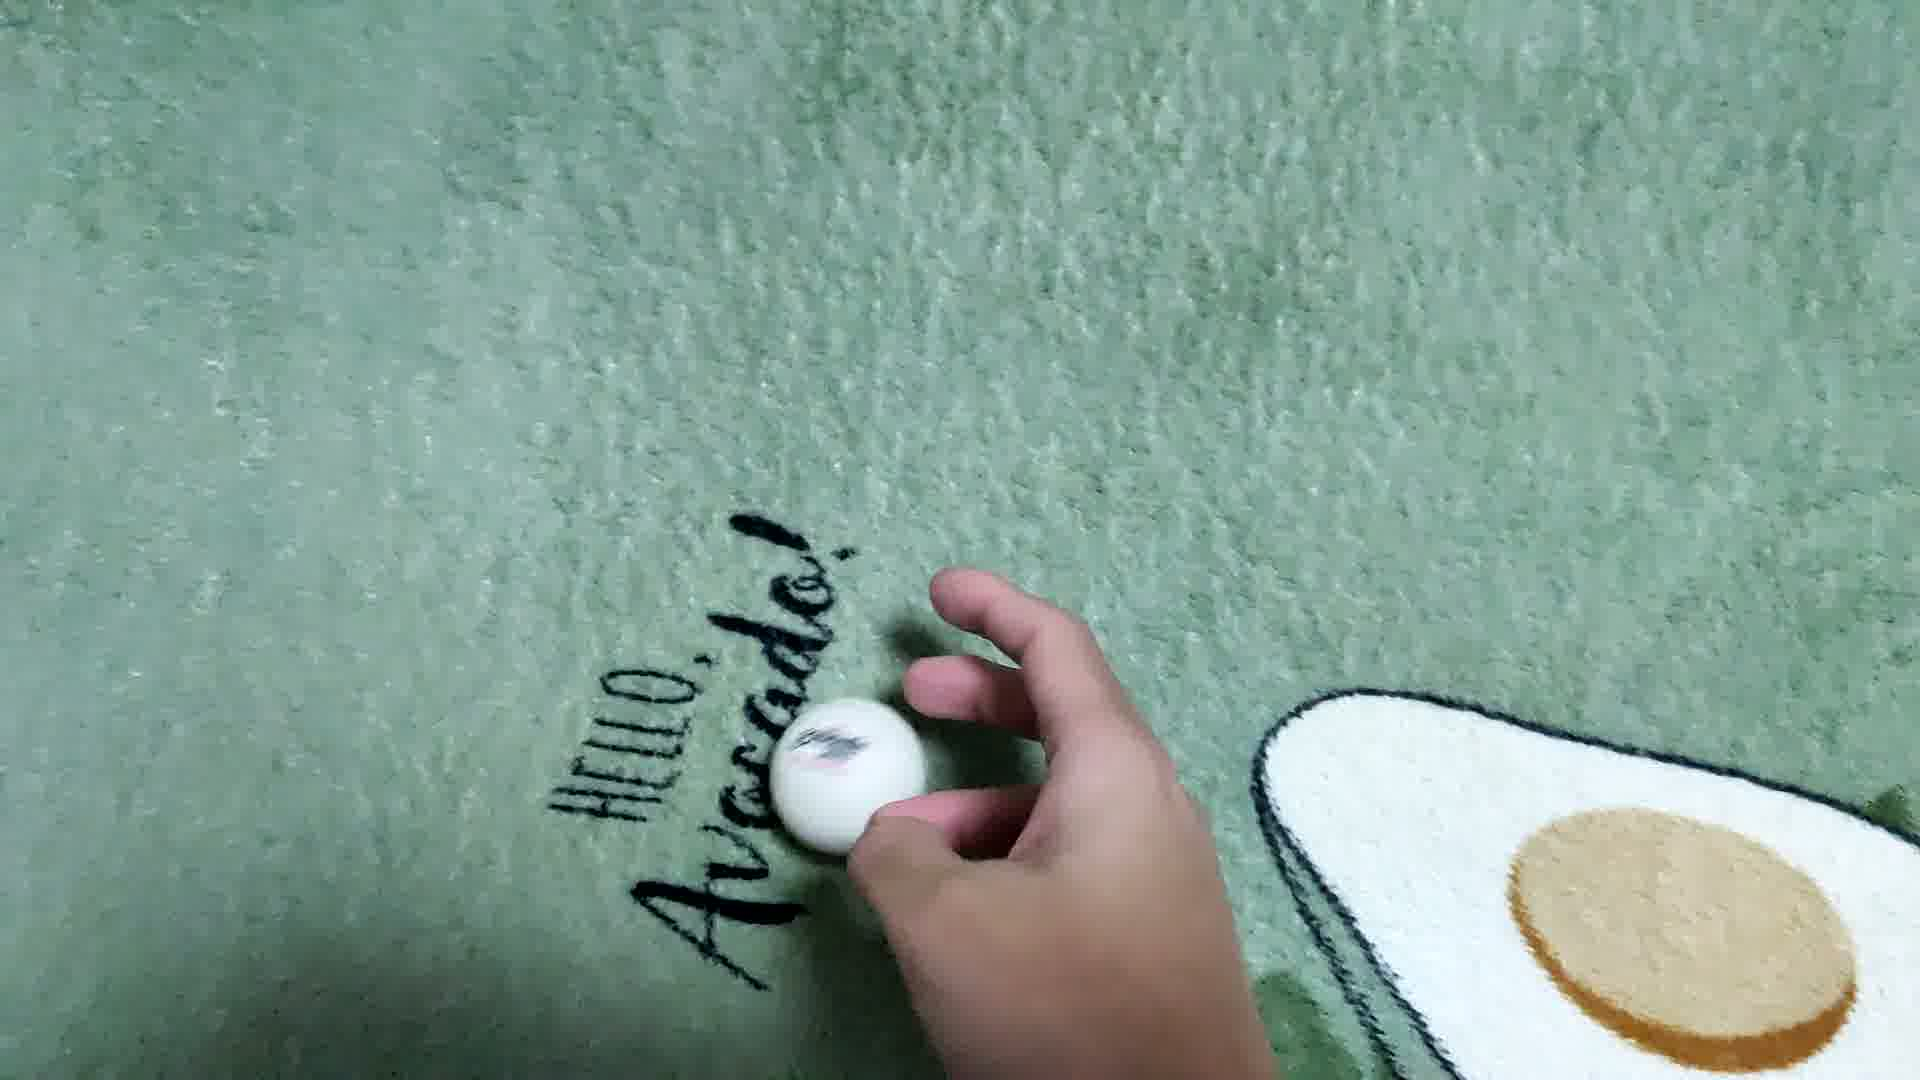Ball: (767, 695, 934, 856)
